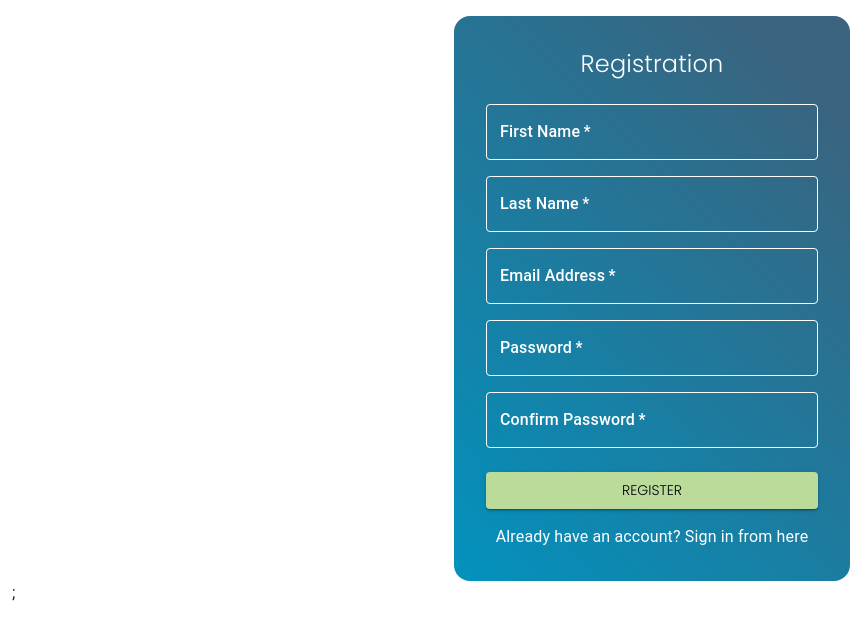
Scenario: shows error message If email not entered
Type "test-name" into the field labelled "First Name *" at (652, 132), box top-left (486, 104), bottom-right (818, 160)
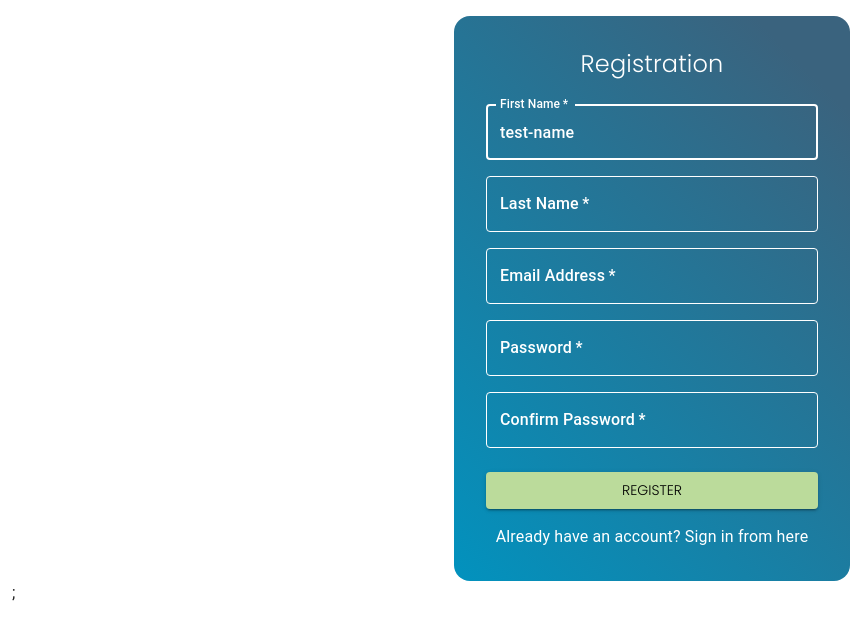
Type "test-name" into the field labelled "Last Name *" at (652, 204), box top-left (486, 176), bottom-right (818, 232)
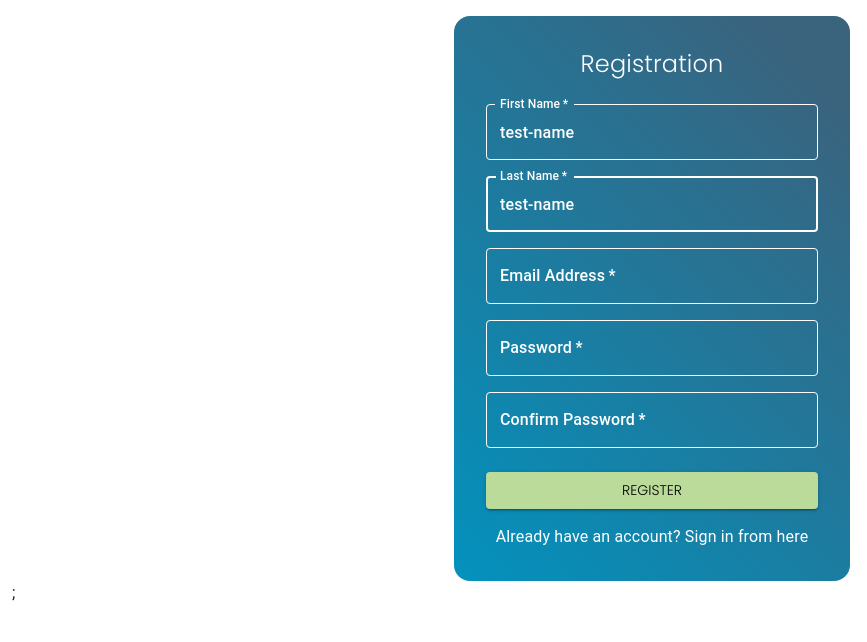
Type "test1234" into the password field with test id "password" at (652, 348), box top-left (486, 320), bottom-right (818, 376)
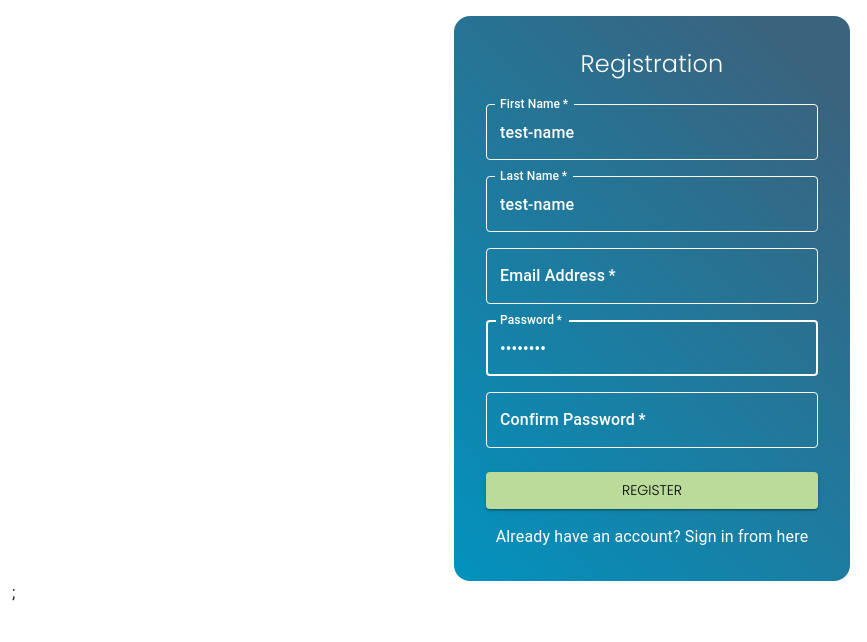
Type "test1234" into the password field with test id "re_password" at (652, 420), box top-left (486, 392), bottom-right (818, 448)
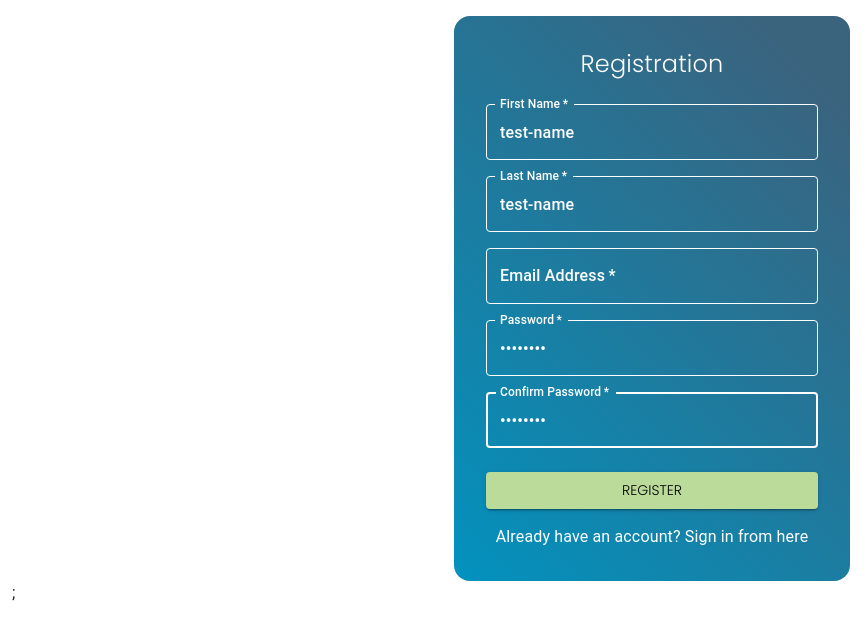
Click the button "Register" at (652, 490), box top-left (486, 472), bottom-right (818, 508)
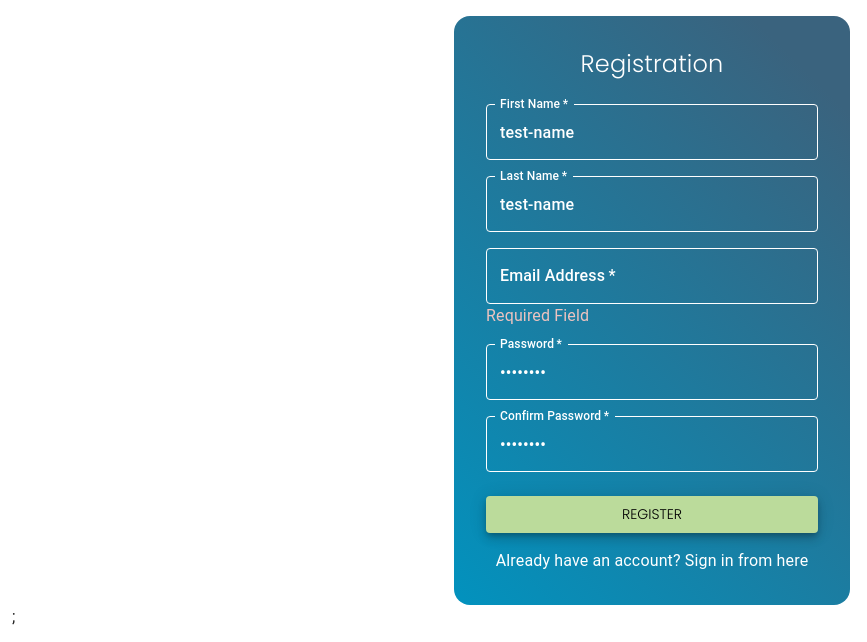
Result: the text with test id "err-email" reads "Required Field" at top-left (486, 306), bottom-right (589, 325)
